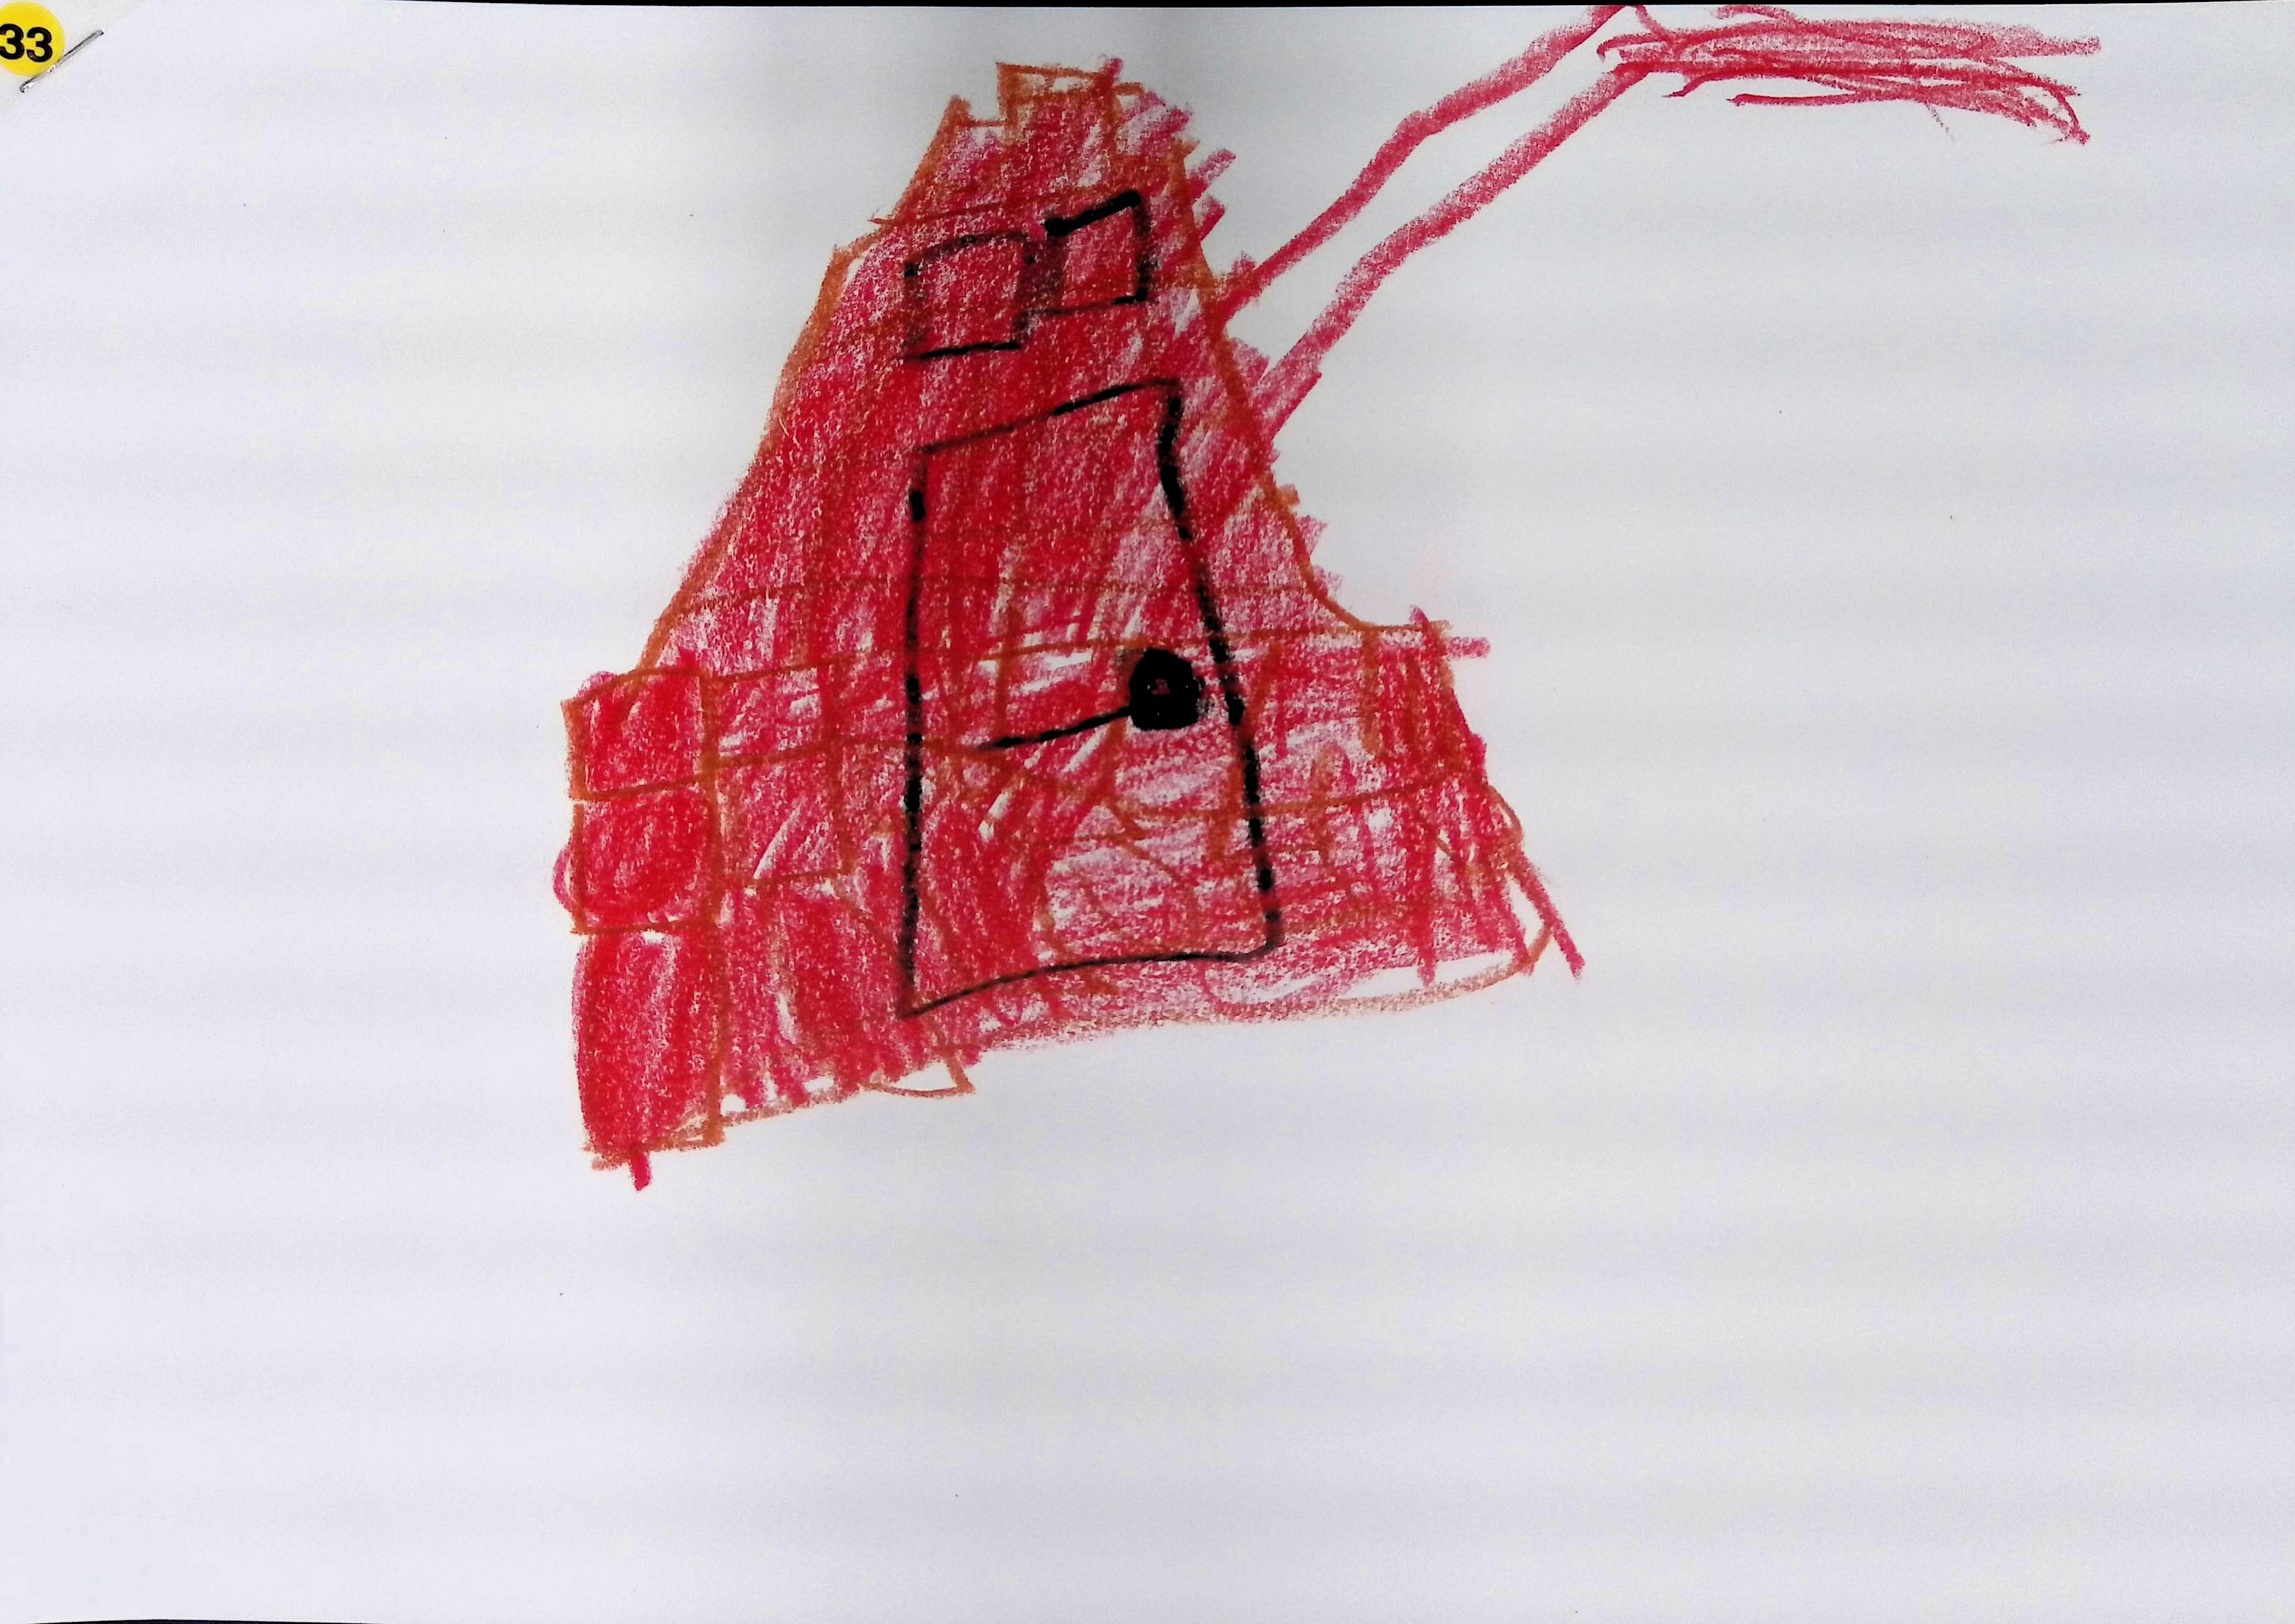chimney: (1211, 0, 1687, 450)
door: (894, 369, 1286, 1026)
house: (538, 0, 1696, 1176)
wall: (550, 605, 1550, 1169)
window: (905, 241, 1039, 367), (1046, 179, 1156, 316)
